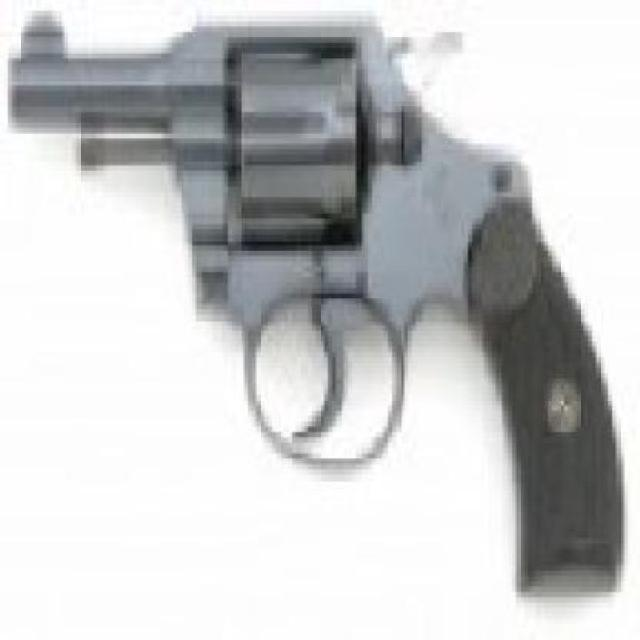guns: (8, 5, 628, 598)
